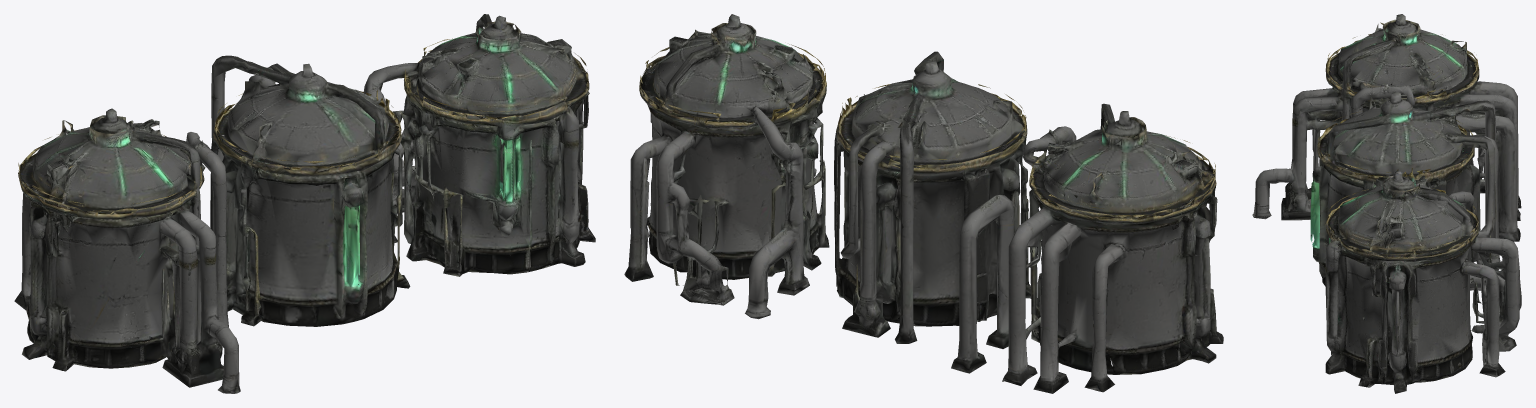
The model's file is gasTank.glb.
The picture shows the model from 3 angles, left to right: view 1: azimuth 30°, elevation 25°; view 2: azimuth 150°, elevation 25°; view 3: azimuth 270°, elevation 25°; orthographic projection. The views are drawn at different scales.
Size of the model in its own units: 1.9 by 0.7391 by 0.9566.
1 material, 1 textured.
